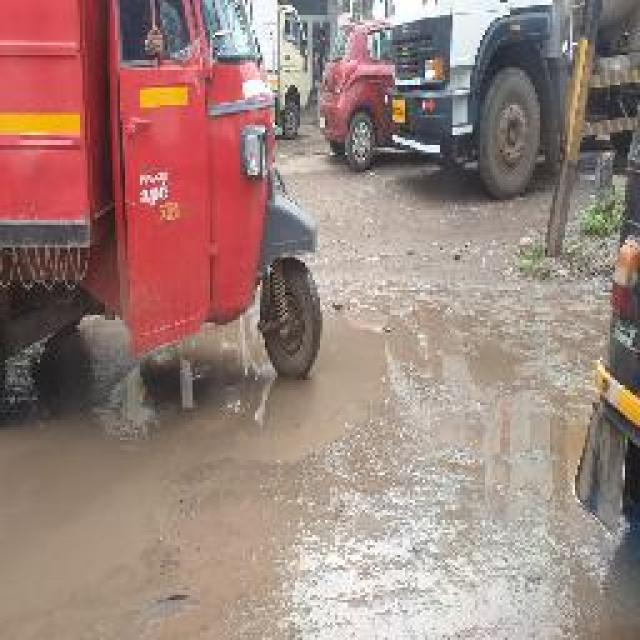stagnation: (343, 310, 543, 520)
